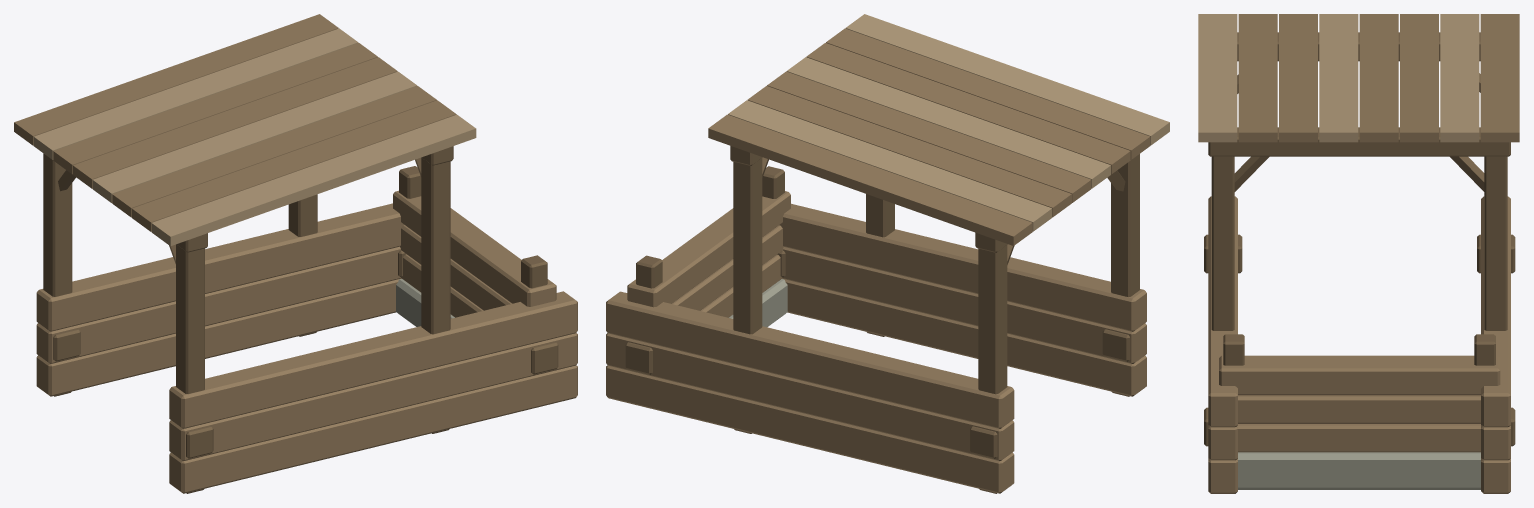
Rendered from field_shelter.glb.
3 renders of one model, left to right at view 1: azimuth 30°, elevation 25°; view 2: azimuth 150°, elevation 25°; view 3: azimuth 270°, elevation 25°, orthographic. The views are drawn at different scales.
Parts seen in each view (by area): view 1: field_shelter_oak, field_shelter_oak_light, field_shelter_oak_dark, field_shelter_stone; view 2: field_shelter_oak, field_shelter_oak_light, field_shelter_oak_dark, field_shelter_stone; view 3: field_shelter_oak, field_shelter_oak_dark, field_shelter_oak_light, field_shelter_stone.
Boxes of the visible parts, bbox=[...] form: field_shelter_oak: bbox=[14, 14, 577, 493]; field_shelter_oak_light: bbox=[33, 28, 476, 246]; field_shelter_oak_dark: bbox=[43, 146, 558, 493]; field_shelter_stone: bbox=[396, 279, 454, 326]; field_shelter_oak: bbox=[606, 28, 1150, 493]; field_shelter_oak_light: bbox=[728, 14, 1169, 231]; field_shelter_oak_dark: bbox=[625, 146, 1139, 493]; field_shelter_stone: bbox=[729, 279, 787, 326]; field_shelter_oak: bbox=[1208, 14, 1519, 493]; field_shelter_oak_dark: bbox=[1204, 32, 1515, 446]; field_shelter_oak_light: bbox=[1198, 14, 1479, 142]; field_shelter_stone: bbox=[1238, 452, 1480, 489].
Size of the model in its own units: 2.95 by 2.06 by 1.93.
